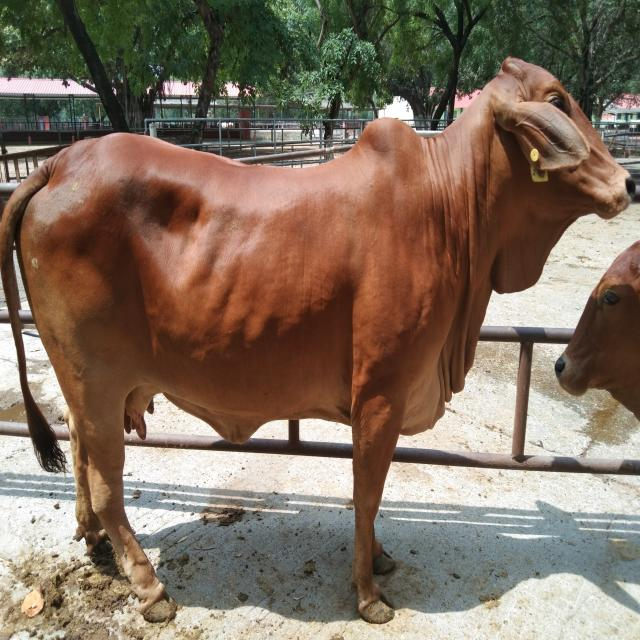cow: (0, 55, 636, 626)
hump: (358, 115, 420, 156)
